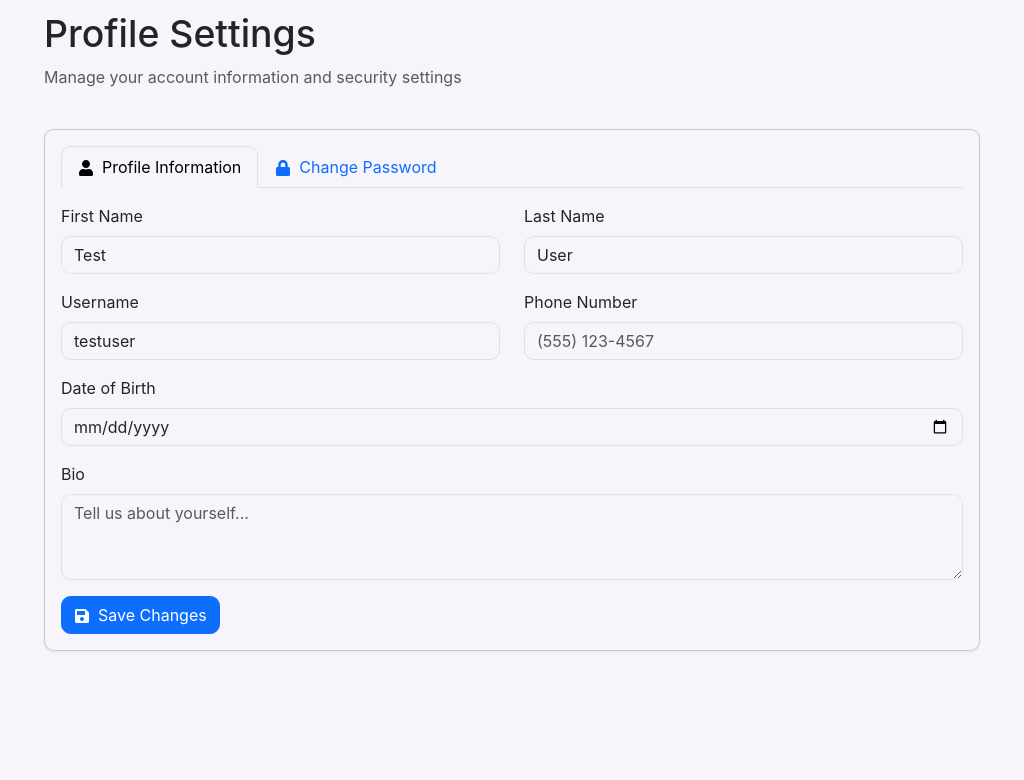
it: Profile › falls back to a generic message when the error has no field detail
Step 1. Click the button "Save Changes" → x=140, y=615, box [61, 596, 220, 634]
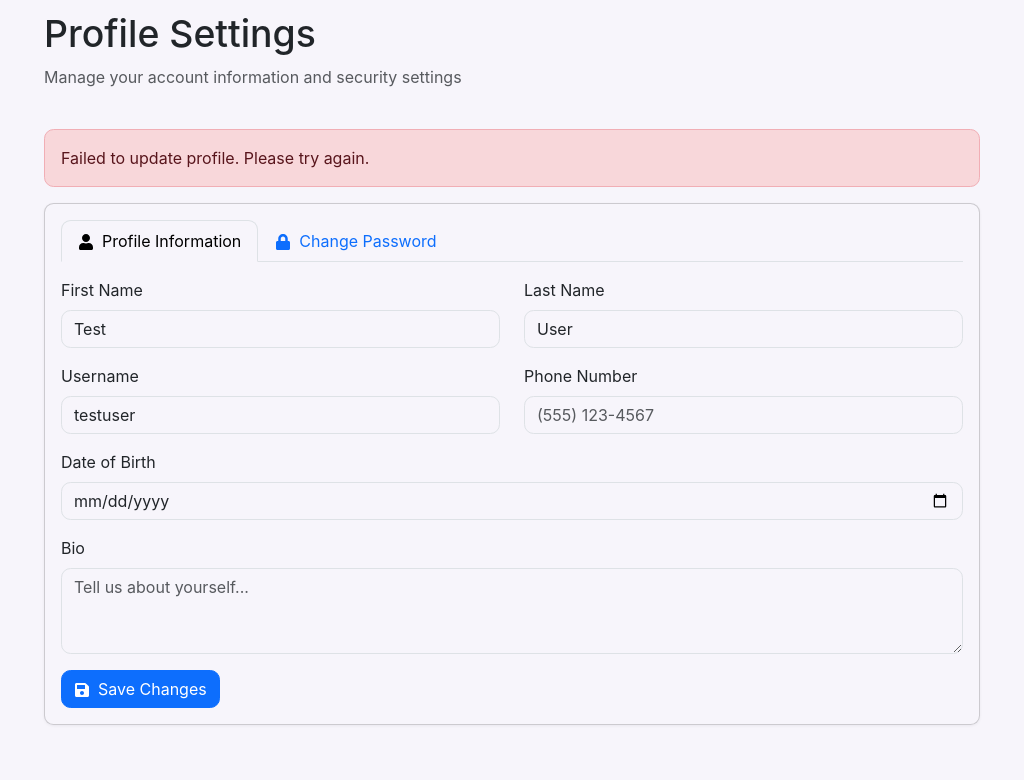
Check: the text "Failed to update profile. Please try again." is shown, box [44, 129, 980, 187]
